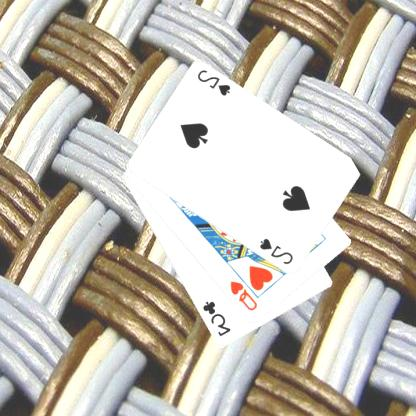2S: (196, 66, 234, 98), (258, 236, 296, 267)
3C: (201, 298, 234, 338)
QH: (229, 278, 260, 313)
